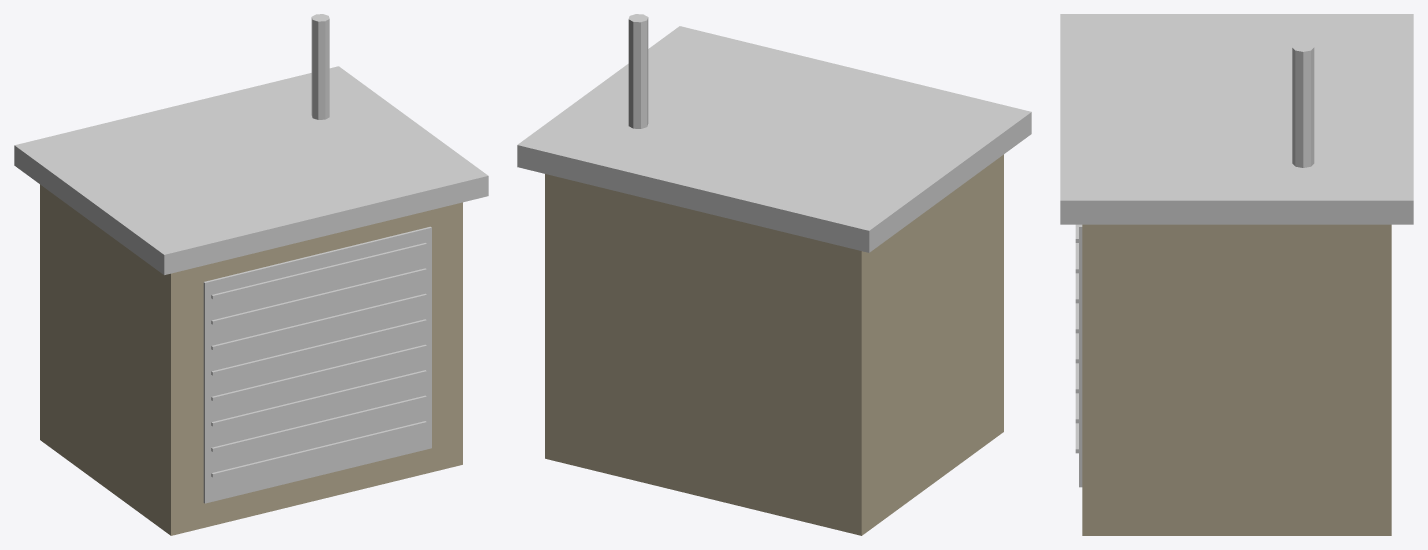
File: detail-generator-hut.glb
3 views of the same model, side by side, from view 1: azimuth 30°, elevation 25°; view 2: azimuth 150°, elevation 25°; view 3: azimuth 270°, elevation 25° (orthographic). The views are drawn at different scales.
Visible parts, largest first — view 1: detail-generator-hut; view 2: detail-generator-hut; view 3: detail-generator-hut.
Part boxes in pixels (x1,y1,x2,y2): detail-generator-hut: (14, 14, 488, 535); detail-generator-hut: (517, 14, 1031, 535); detail-generator-hut: (1060, 14, 1413, 535).
Size of the model in its own units: 2 by 2.3 by 1.6.
